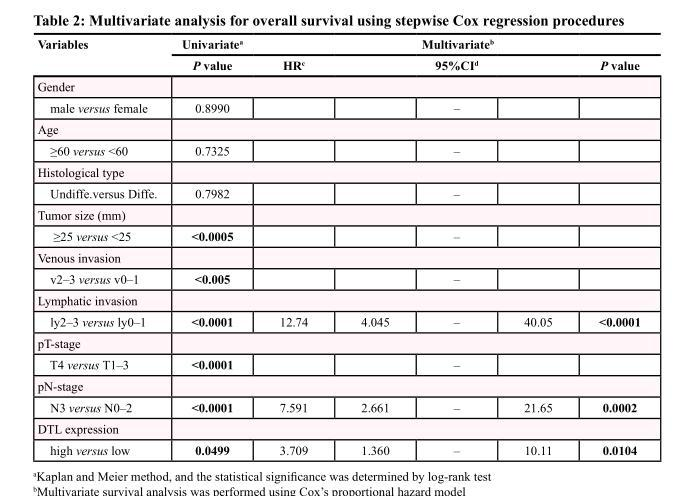table: (36, 36, 639, 456)
table column: (36, 36, 168, 456), (404, 36, 500, 456), (168, 36, 255, 456), (255, 36, 333, 456), (500, 36, 574, 456), (333, 36, 404, 456), (574, 36, 639, 456)
table column header: (36, 36, 639, 75)
table projected row header: (36, 160, 639, 182), (36, 203, 639, 225), (36, 374, 639, 396), (36, 75, 639, 96), (36, 118, 639, 139), (36, 246, 639, 267), (36, 289, 639, 310), (36, 332, 639, 353), (36, 417, 639, 438)
table row: (36, 96, 639, 118), (36, 160, 639, 182), (36, 203, 639, 225), (36, 267, 639, 289), (36, 310, 639, 332), (36, 374, 639, 396), (36, 54, 639, 75), (36, 75, 639, 96), (36, 118, 639, 139), (36, 139, 639, 160), (36, 182, 639, 203), (36, 225, 639, 246), (36, 246, 639, 267), (36, 289, 639, 310), (36, 332, 639, 353), (36, 353, 639, 374), (36, 396, 639, 417), (36, 417, 639, 438), (36, 36, 639, 54), (36, 438, 639, 456)
table spanning cell: (36, 36, 168, 75), (168, 36, 404, 54), (404, 36, 639, 54)
